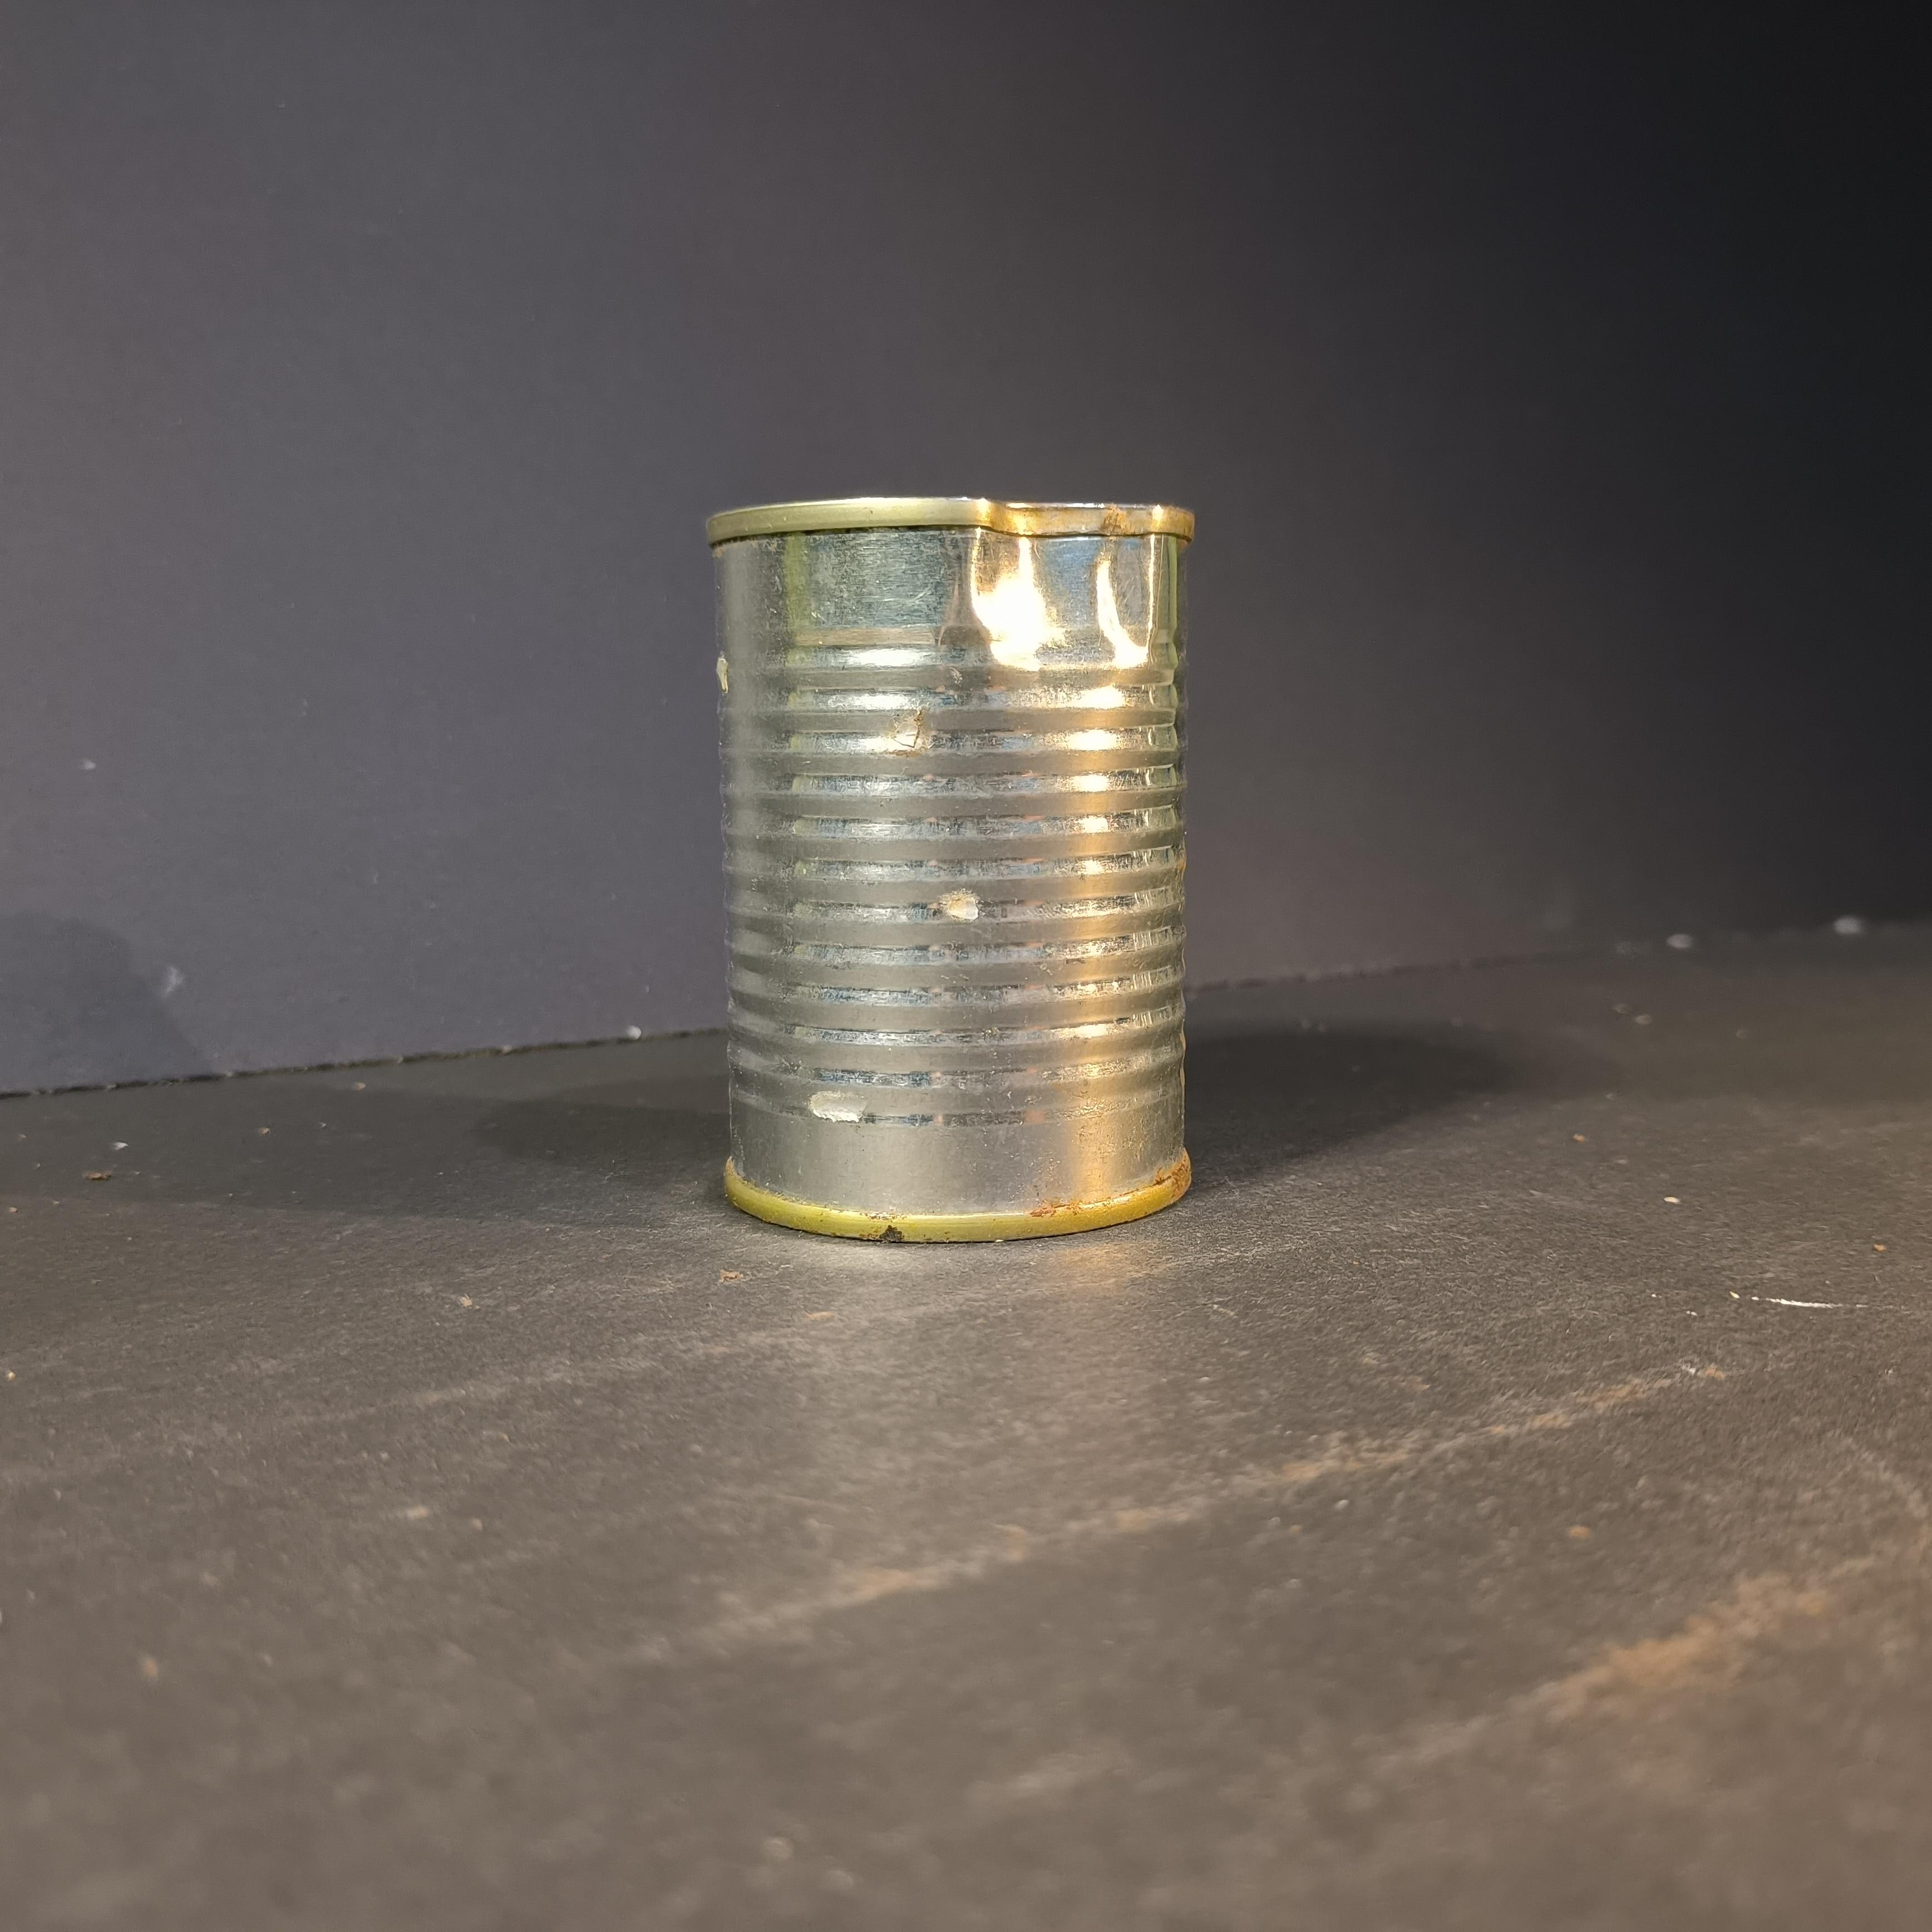Critical Defect: (703, 496, 1196, 1248)
